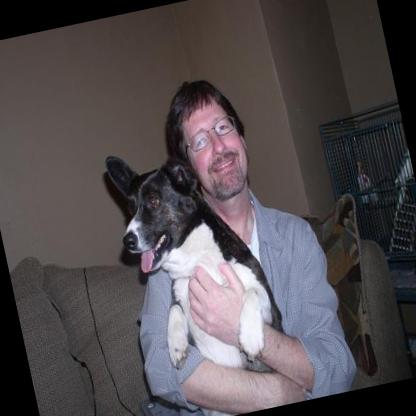Cardigan: (99, 123, 290, 391)
